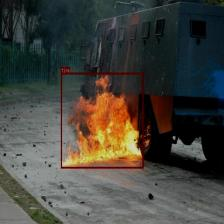fire: (60, 72, 144, 168)
